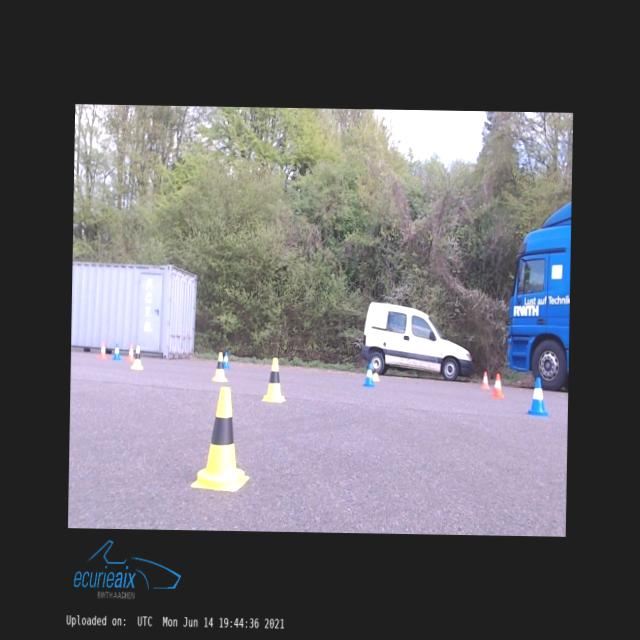blue_cone: (527, 377, 548, 416), (364, 363, 374, 385), (113, 343, 120, 359), (223, 352, 229, 368)
orange_cone: (492, 373, 504, 396), (480, 372, 490, 388), (128, 344, 134, 360), (100, 342, 106, 357)
yellow_cone: (190, 386, 250, 492), (262, 358, 286, 402), (211, 352, 228, 382), (131, 346, 142, 368), (372, 362, 379, 380)
